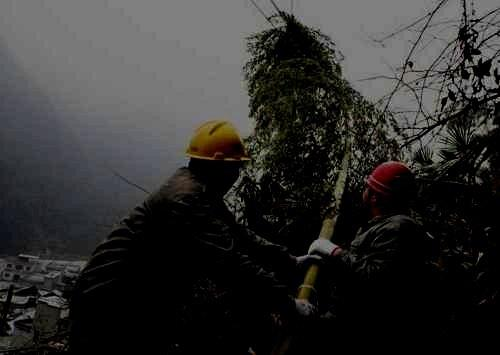helmet: (183, 118, 252, 195), (361, 160, 415, 217)
